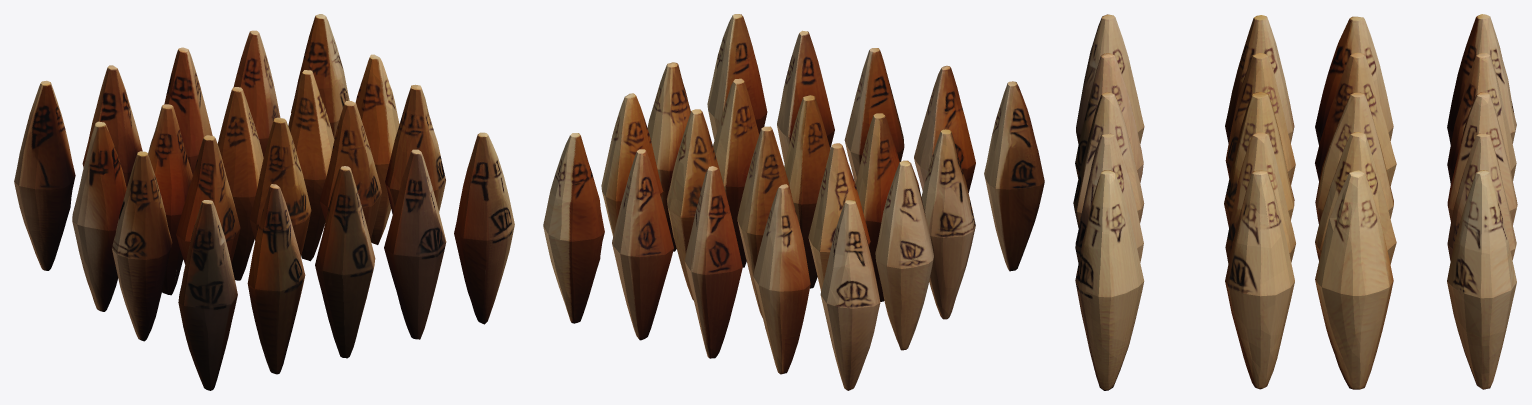
The model's file is wooden-tent-pegs-futuristic.jpeg.glb.
3 renders of one model, left to right at view 1: azimuth 30°, elevation 25°; view 2: azimuth 150°, elevation 25°; view 3: azimuth 270°, elevation 25°, orthographic. The views are drawn at different scales.
Visible parts, largest first — view 1: world; view 2: world; view 3: world.
Part boxes in pixels (box(x1,y1,x2,y2)): world: box(14, 14, 514, 390); world: box(543, 14, 1044, 390); world: box(1073, 14, 1517, 390).
Size of the model in its own units: 1 by 0.549 by 1.
Materials: 1 (1 with a texture image).
